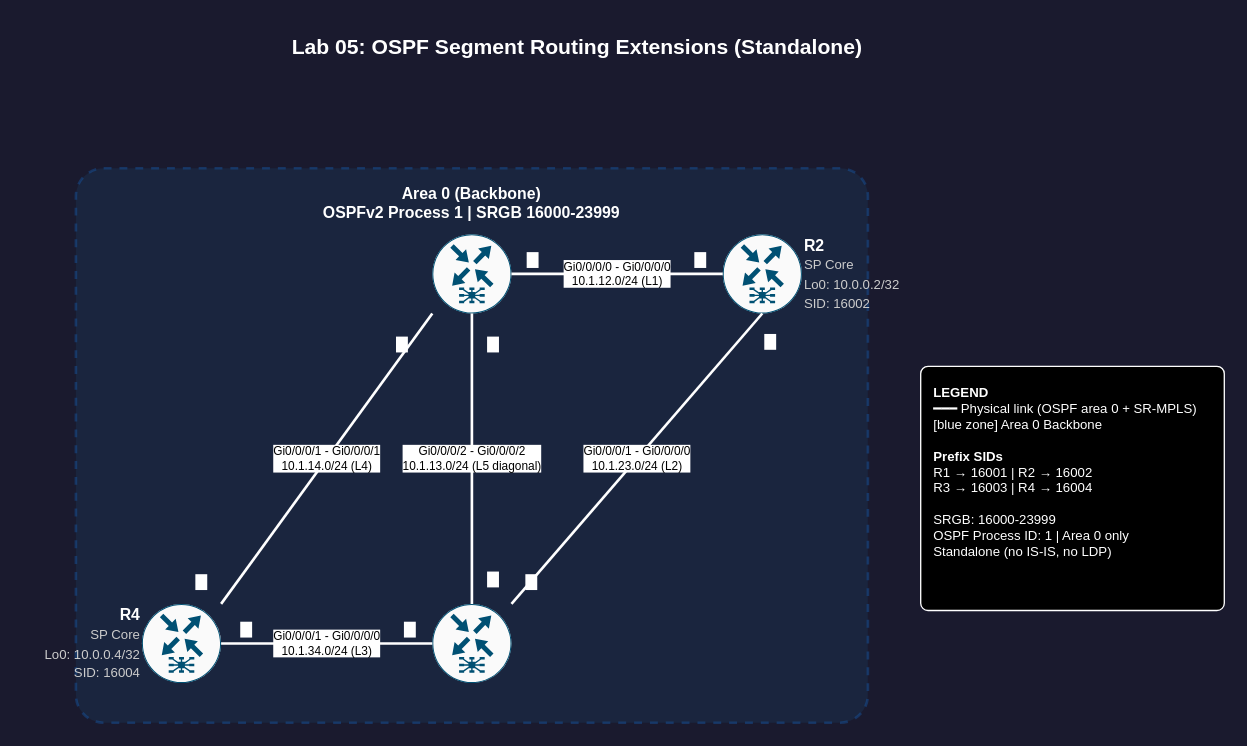
Image size: 1247x746. Some labels were removed from this diagram. Each missing label, with the centre of its shape:
"R1 SP Edge / SR Ingress Lo0: 10.0.0.1/32 SID: 16001" goes at pixel 471 273.
"R3 SP Edge / SR Egress Lo0: 10.0.0.3/32 SID: 16003" goes at pixel 471 643.
